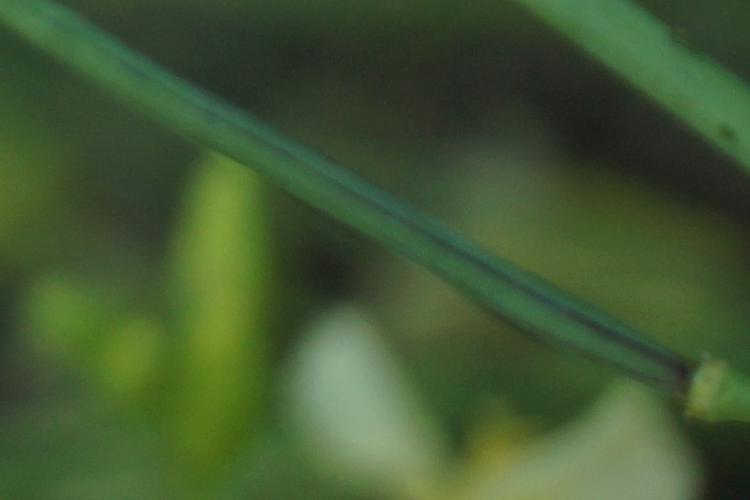pod: (40, 15, 733, 423)
